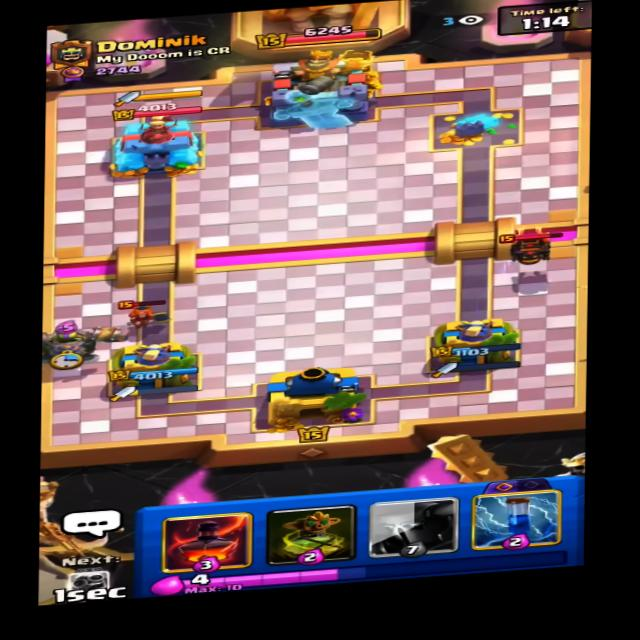lava-hound: (482, 223, 576, 268)
valkyrie: (114, 291, 175, 331)
